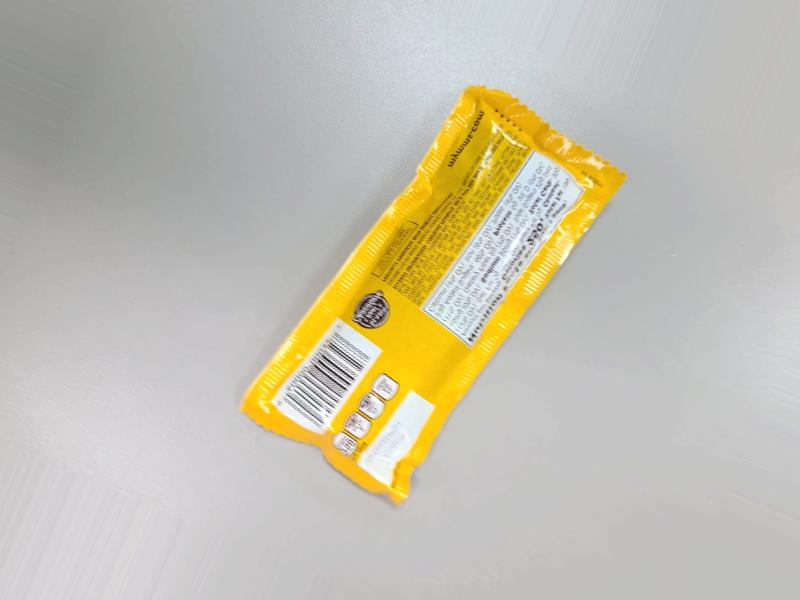m&m: (251, 82, 611, 487)
